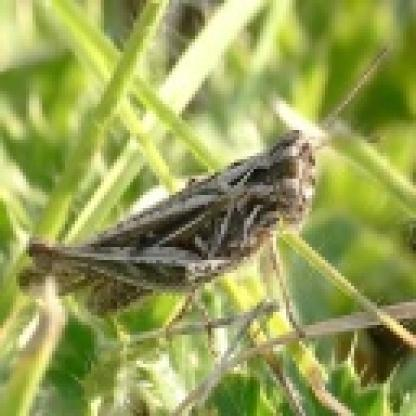grasshopper: (22, 114, 330, 317)
